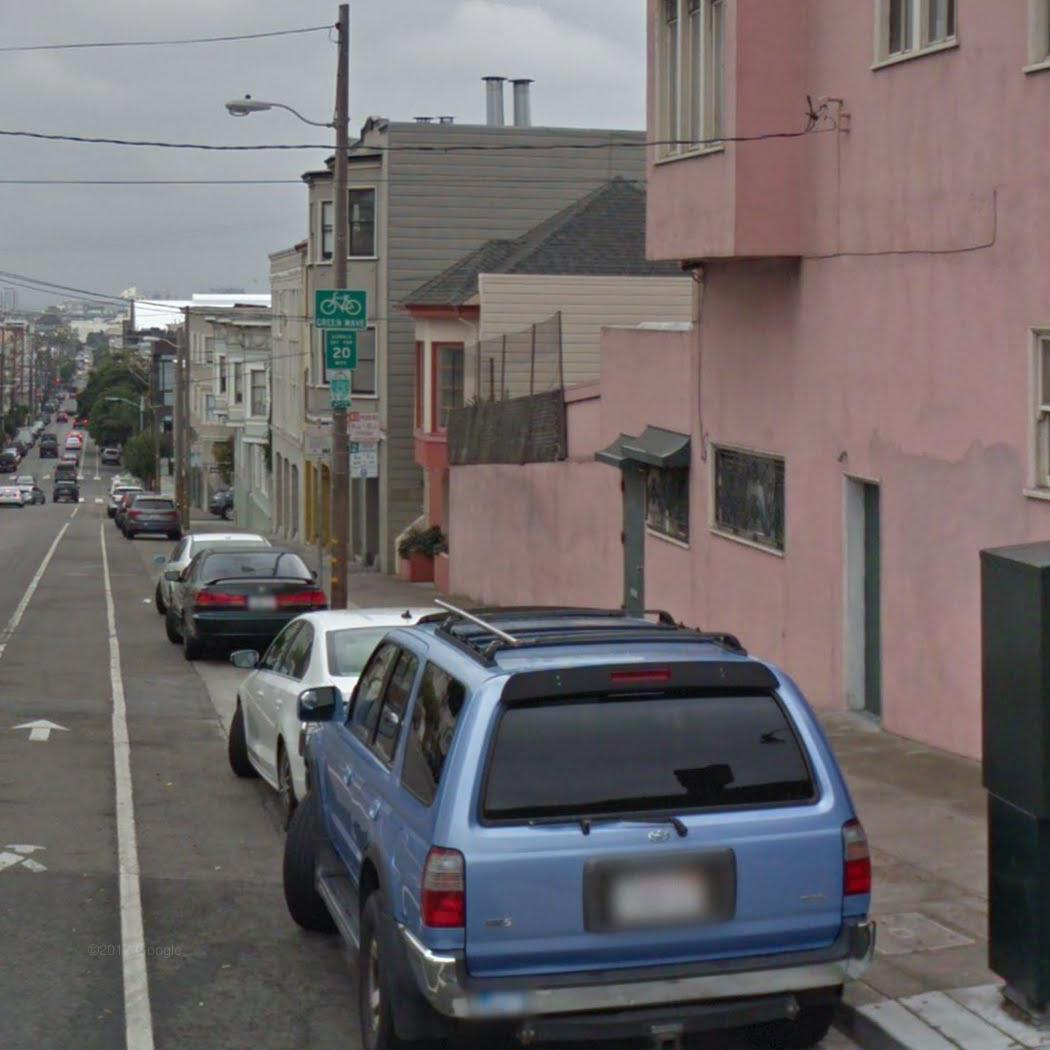2 Hour Parking: (348, 440, 379, 479)
No Parking: (347, 410, 381, 445)
